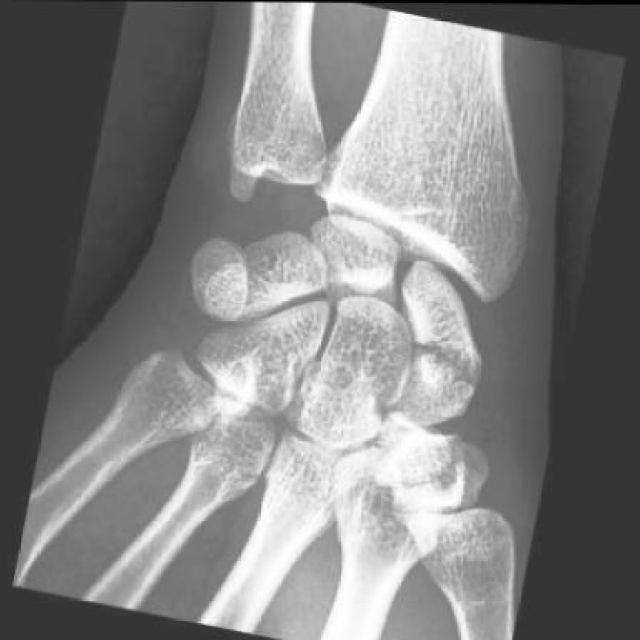Fracture: (383, 331, 491, 407)
